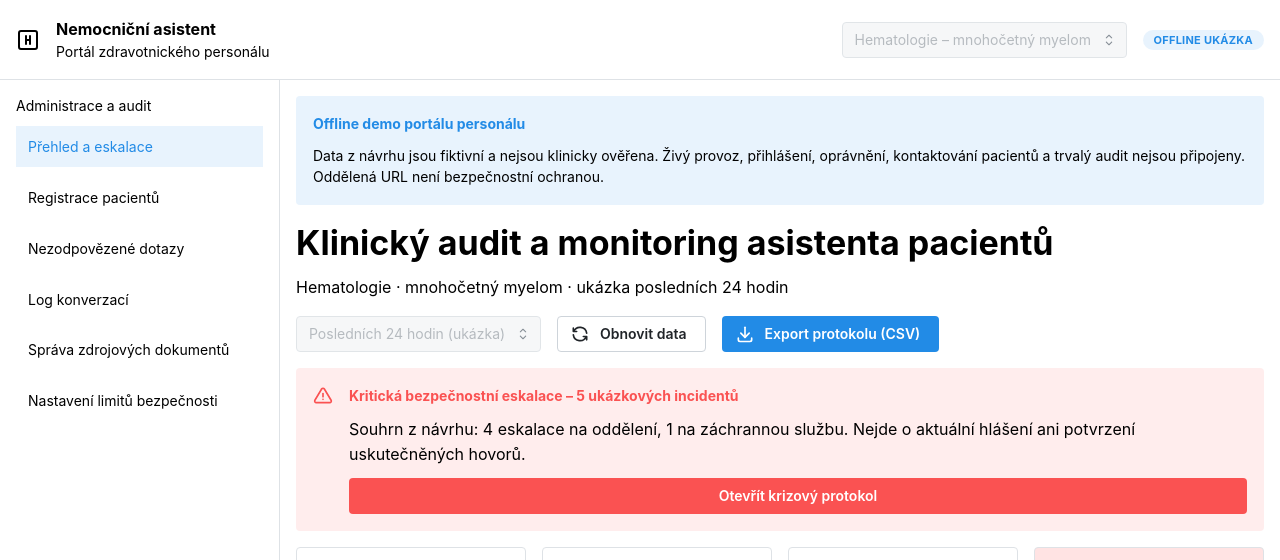
Scenario: practitioner URL › switches dashboard sections and explicitly reports unavailable live data
Click the button "Log konverzací" at (140, 299), box [16,279,263,320]
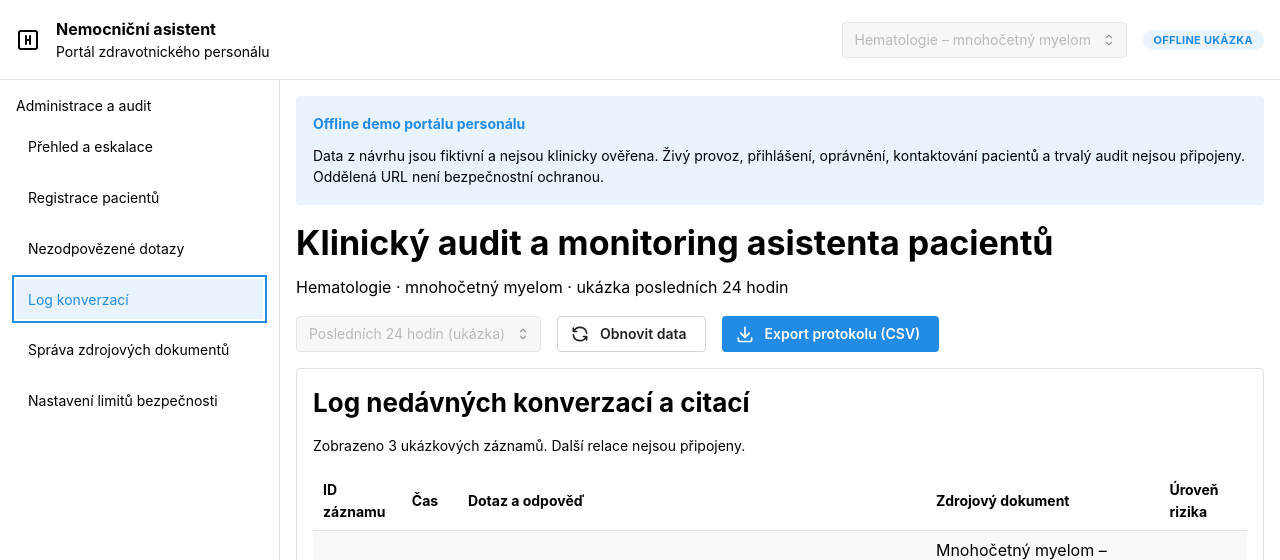
Click the button "Obnovit data" at (631, 334), box [557,316,706,352]
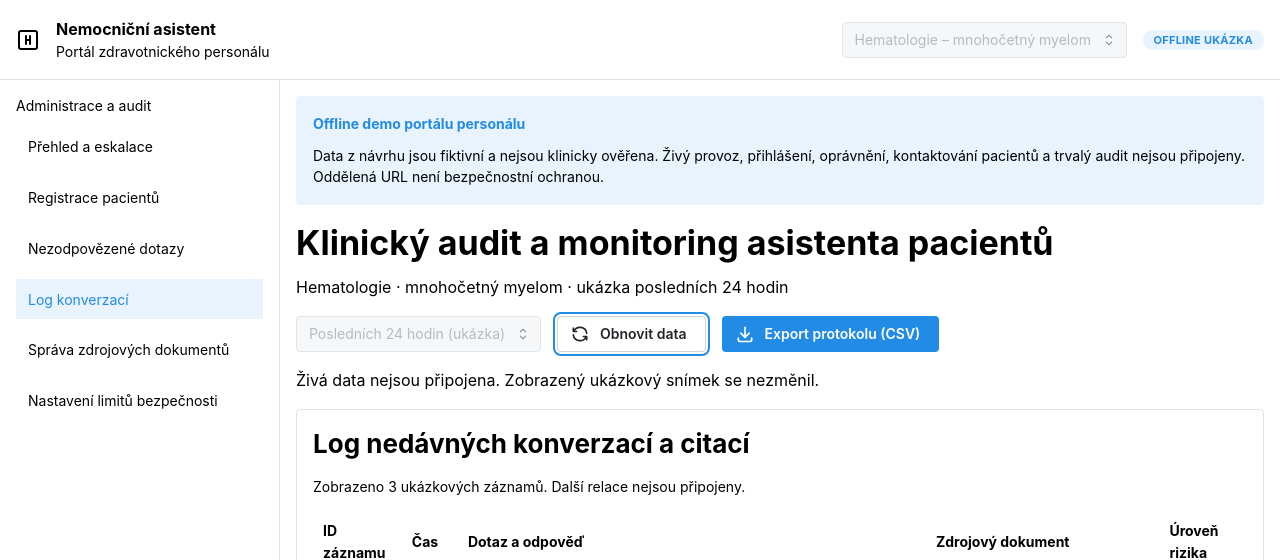
expect the message "Živá data nejsou připojena. Zobrazený ukázkový snímek se nezměnil." is shown: met, box [296,370,819,390]
Click the button "Správa zdrojových dokumentů" at (140, 350), box [16,330,263,370]
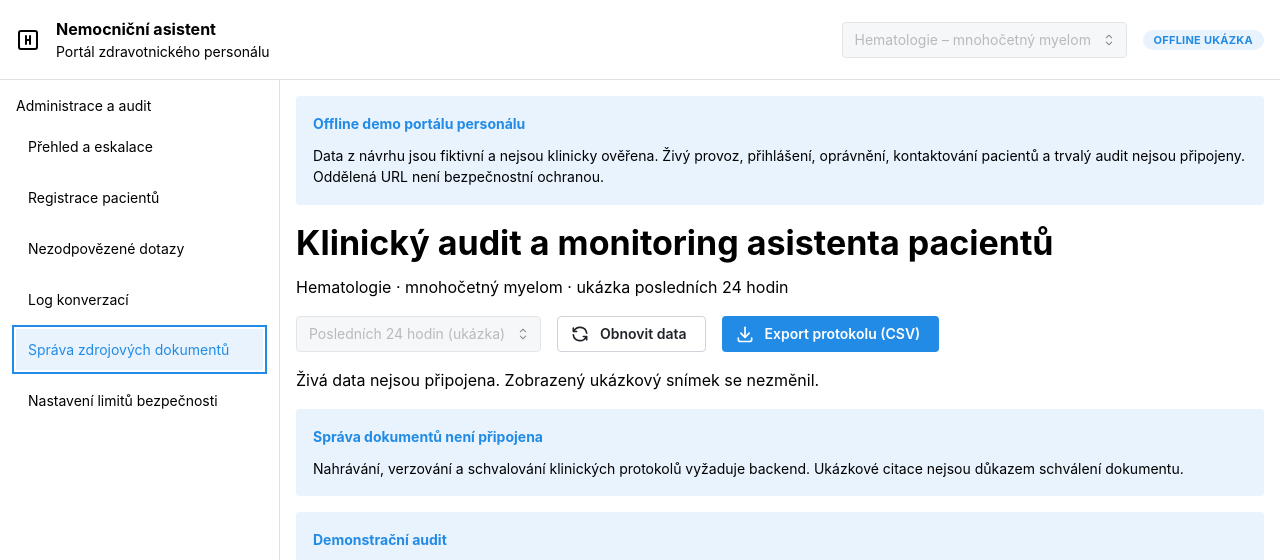
expect the text "Správa dokumentů není připojena" is shown: met, box [313,426,543,448]
